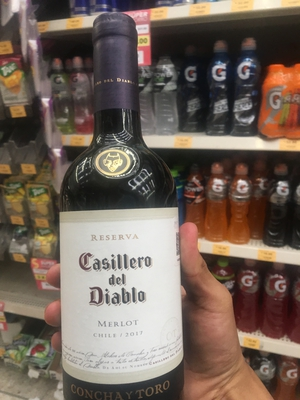casillero del diablo merlot: (58, 21, 193, 400)
